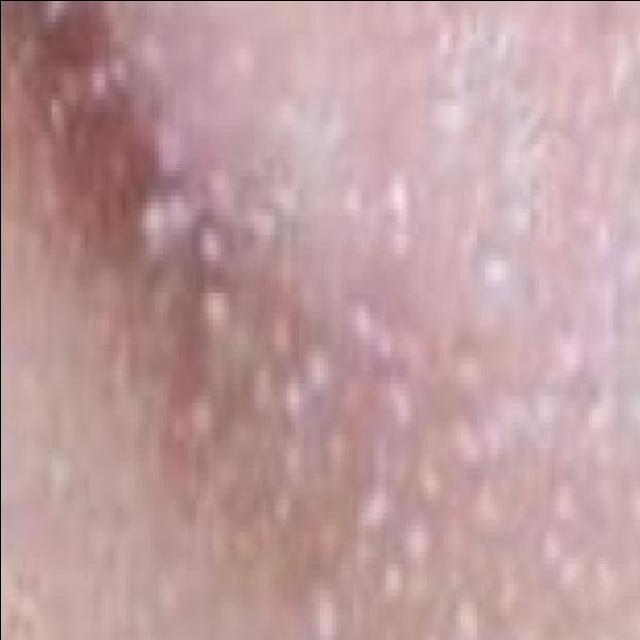whitehead: (14, 0, 639, 640)
